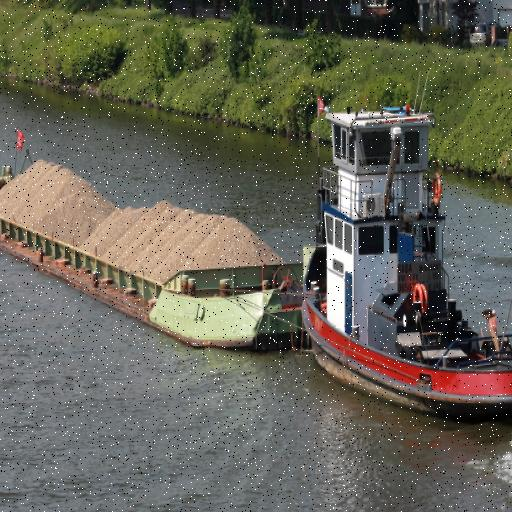tugboat: (296, 85, 512, 434)
